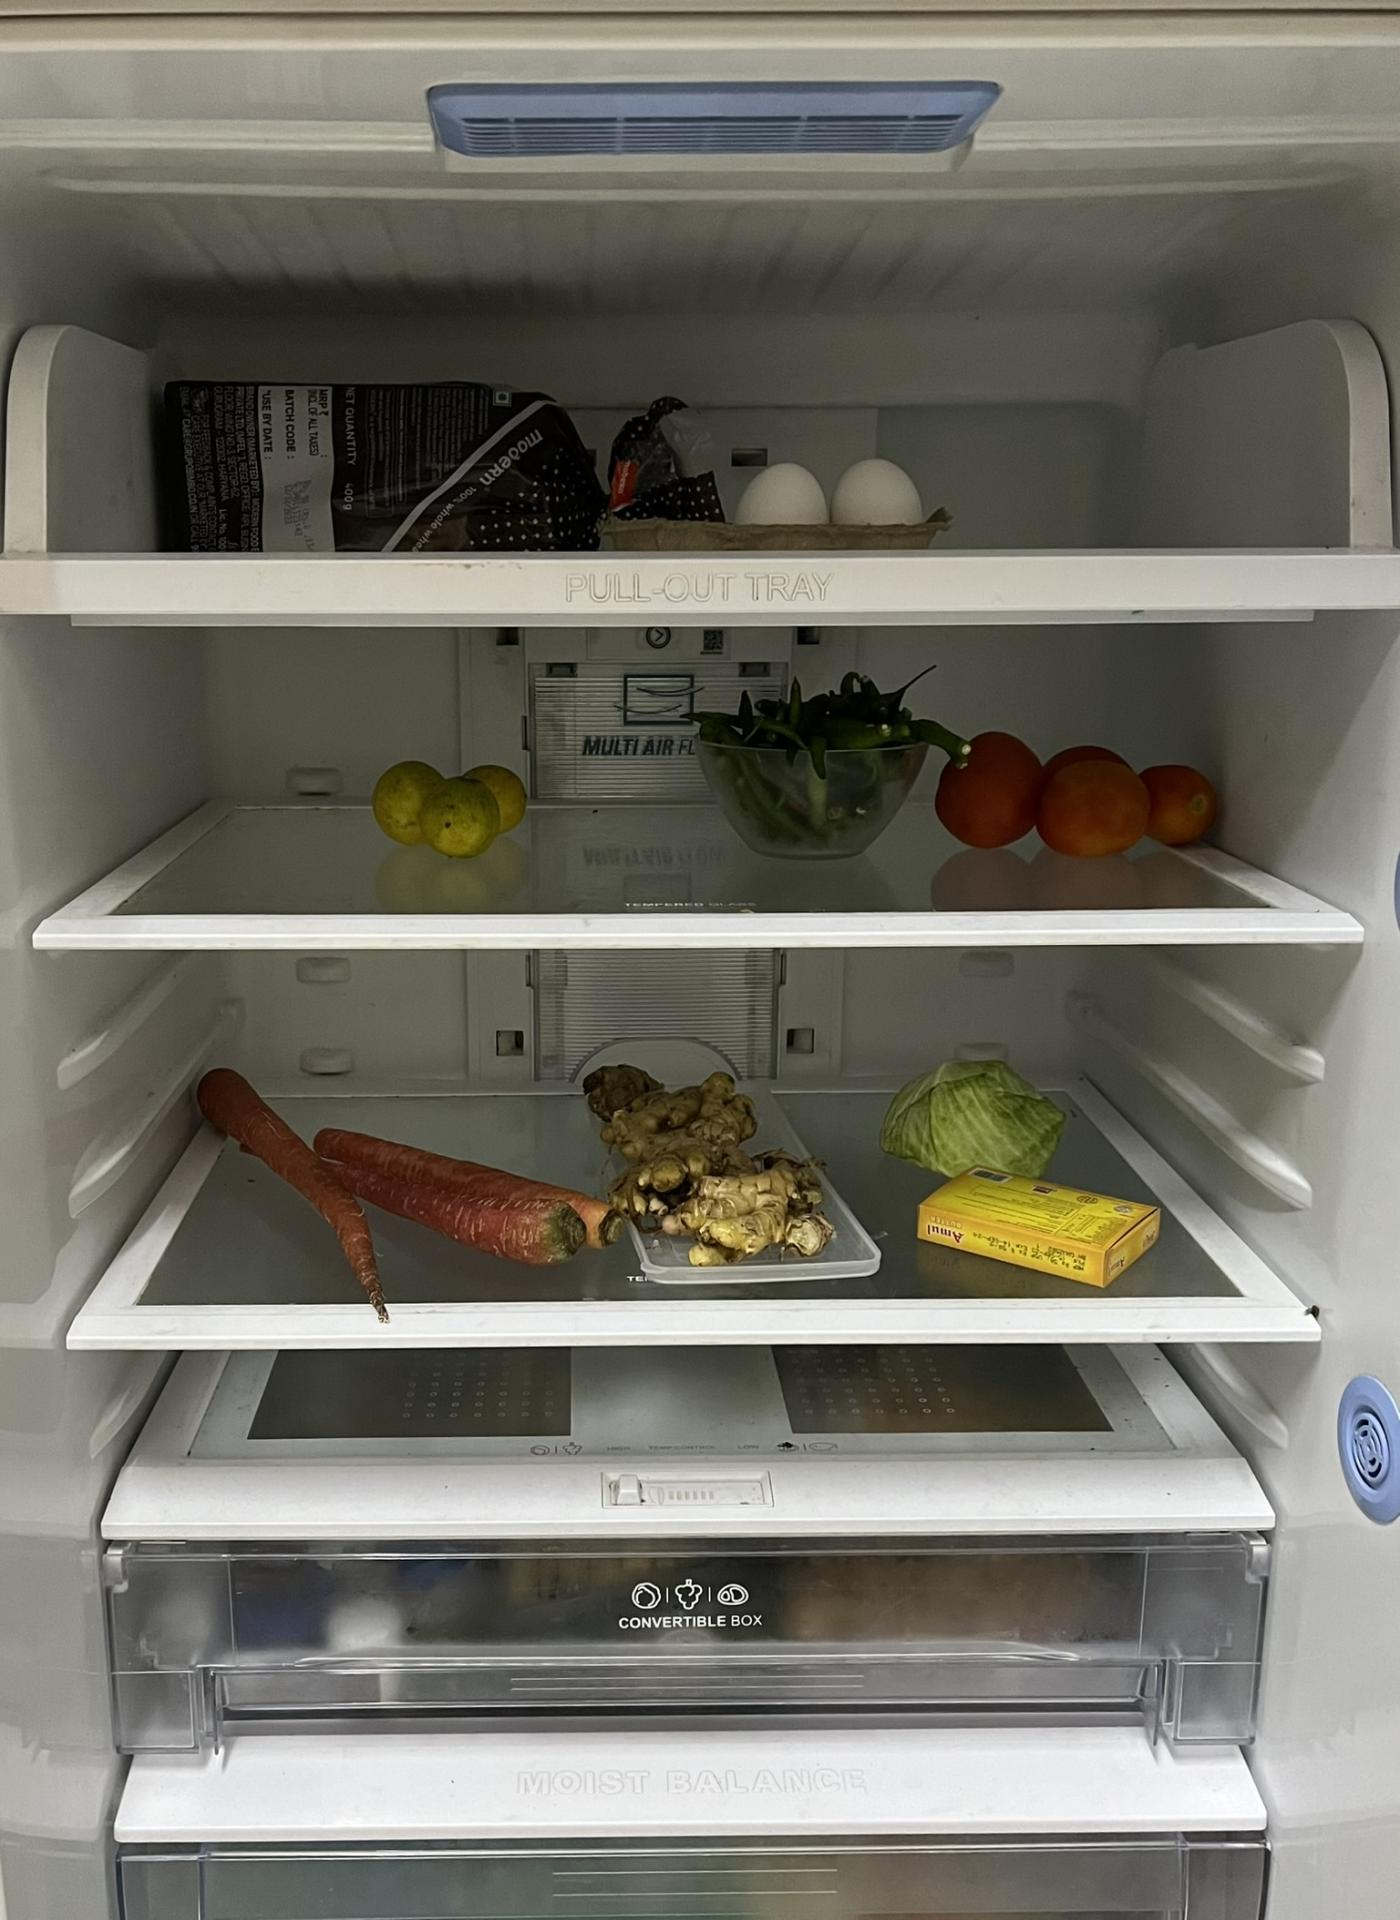butter: (161, 377, 731, 558), (911, 1173, 1164, 1286)
cabbage: (883, 1064, 1066, 1184)
carrots: (192, 1060, 599, 1310)
chillies: (698, 677, 927, 862)
egg: (737, 456, 933, 538)
ginger: (586, 1058, 836, 1260)
lemon: (370, 753, 537, 863)
tomato: (941, 727, 1215, 854)
